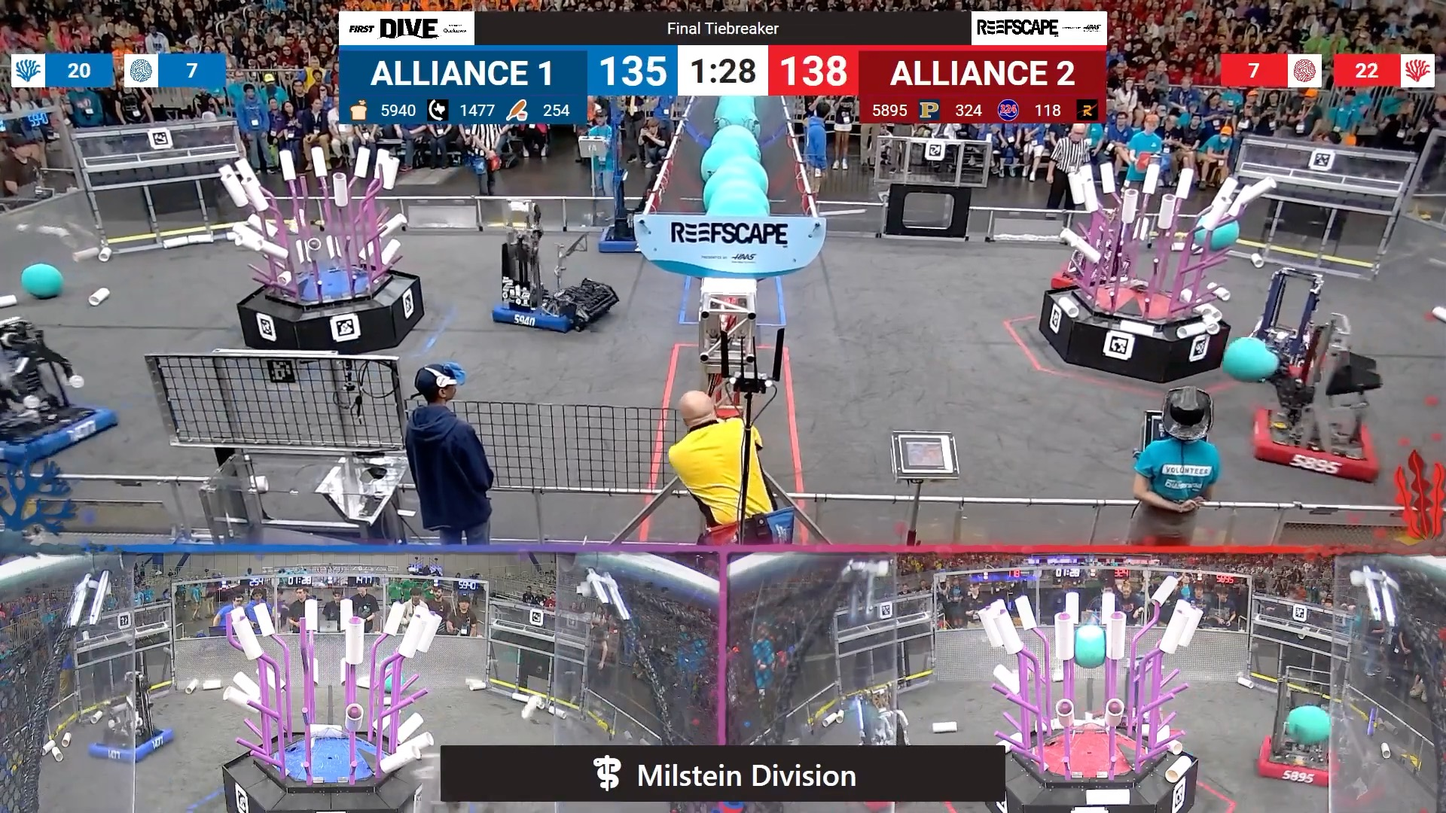bumpers: (1238, 403, 1381, 485), (0, 399, 125, 470), (488, 284, 614, 337), (1246, 735, 1344, 792), (83, 723, 182, 769), (591, 221, 659, 262), (1048, 259, 1093, 291)
